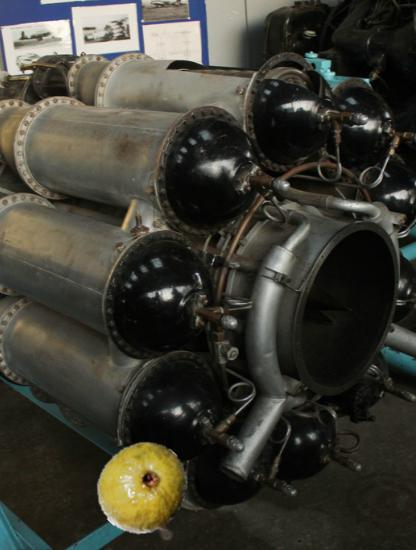Guava: (95, 440, 191, 536)
